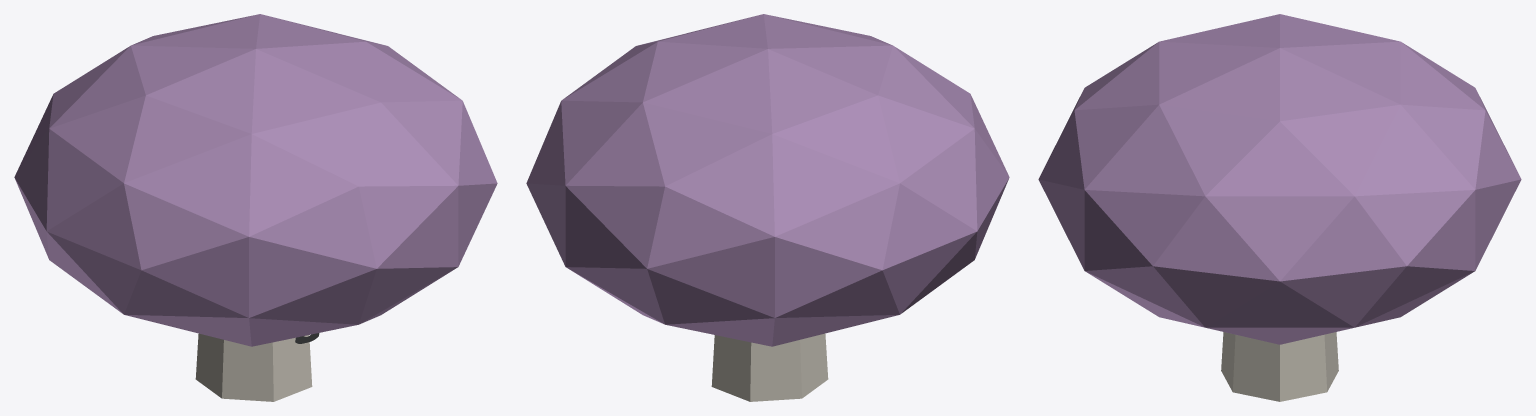
The model's file is bolbitius-aleuriatus.glb.
The picture shows the model from 3 angles, left to right: view 1: azimuth 30°, elevation 25°; view 2: azimuth 150°, elevation 25°; view 3: azimuth 270°, elevation 25°; orthographic projection.
Visible parts, largest first — view 1: cap, stalk; view 2: cap, stalk; view 3: cap, stalk.
Boxes of the visible parts, left/top/right/bottom form: cap: left=14, top=14, right=497, bottom=346; stalk: left=195, top=333, right=312, bottom=401; cap: left=526, top=14, right=1009, bottom=346; stalk: left=711, top=333, right=828, bottom=401; cap: left=1038, top=14, right=1521, bottom=344; stalk: left=1221, top=332, right=1338, bottom=401.
Size of the model in its own units: 0.4 by 0.3 by 0.4.
